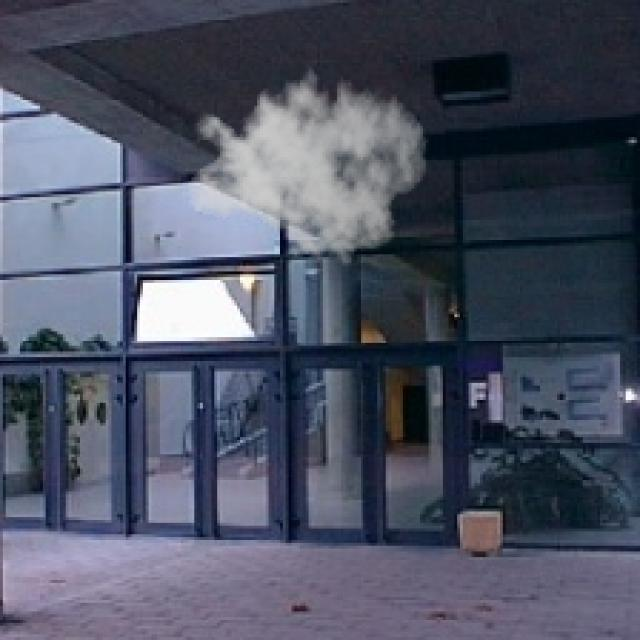smoke: (185, 57, 428, 272)
